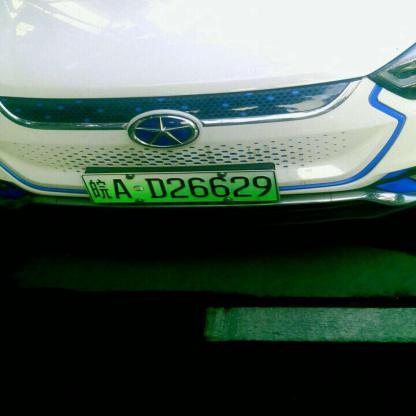lp: (82, 170, 278, 202)
